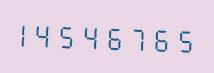five: (61, 18, 82, 52), (171, 22, 192, 55)
four: (39, 17, 60, 51), (83, 19, 104, 52)
one: (17, 16, 38, 50)
seven: (127, 20, 148, 54)
six: (105, 19, 126, 53), (149, 21, 170, 55)
